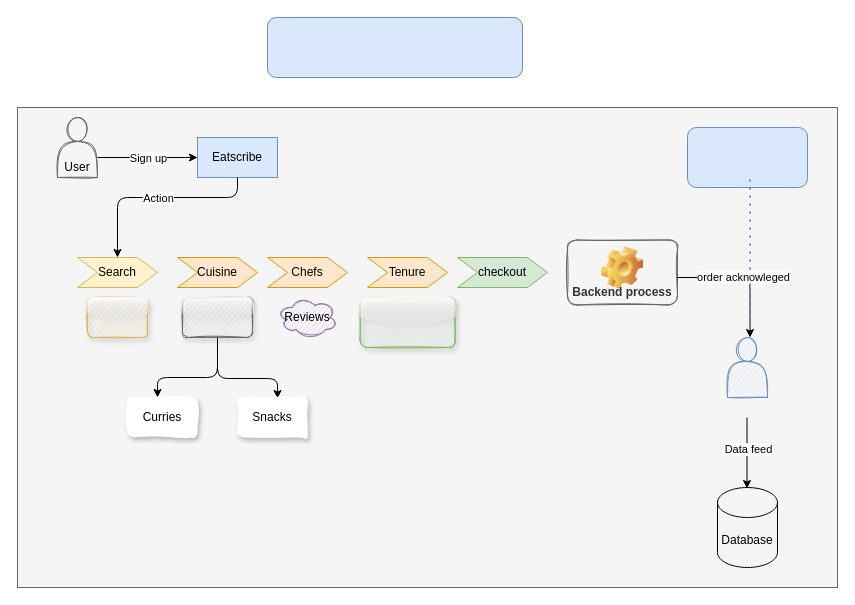
Image size: 855x605. Some labels were removed from this diagram. The centre of each missing label's shape, as x and y in pixels:
1 week 1 meal per day Total=7 meals: point 408,323
Any dish: point 118,318
Eatscribe-Subscribe to eating: point 394,47
Indian: point 218,318
Small Vendors Gas Stations Food Trucks Restaurants: point 747,157
Vendor: point 747,367
